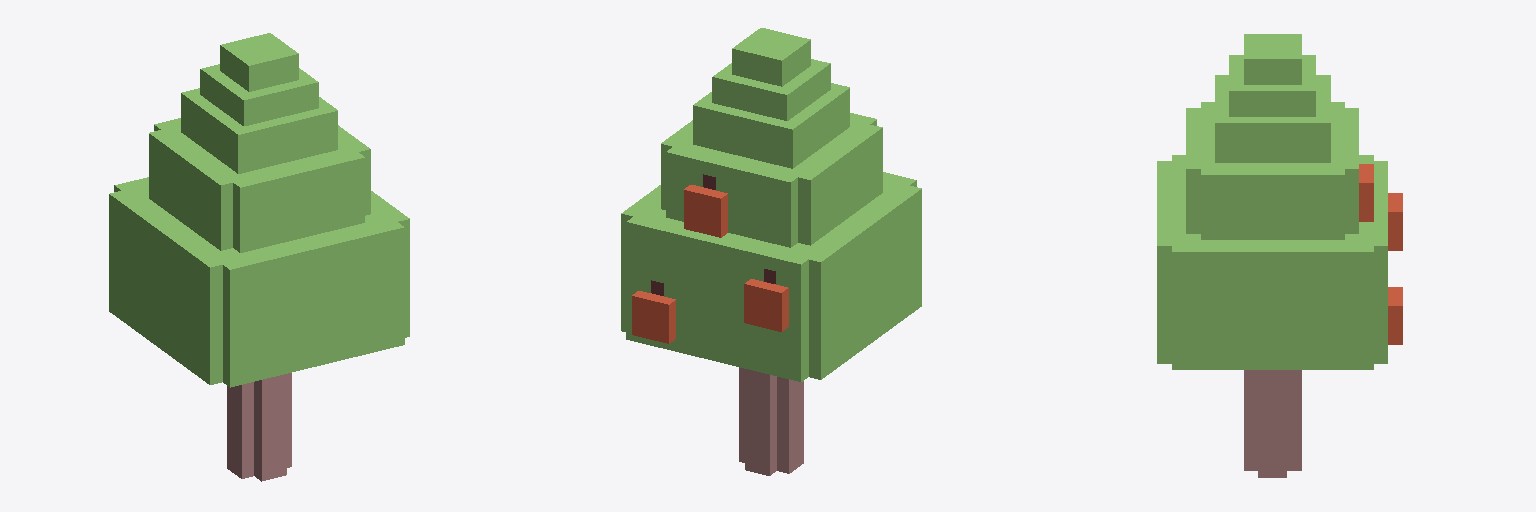
The picture shows the model from 3 angles: view 1: azimuth 30°, elevation 25°; view 2: azimuth 150°, elevation 25°; view 3: azimuth 270°, elevation 25°; orthographic projection.
Parts seen in each view (by area): view 1: object 1; view 2: object 1; view 3: object 1.
Boxes of the visible parts, box(x1,y1,x2,y2) form: object 1: box(109, 33, 409, 481); object 1: box(621, 28, 921, 475); object 1: box(1157, 34, 1402, 477).
Size of the model in its own units: 1.6 by 3.2 by 1.7.
Materials: 1 (1 with a texture image).